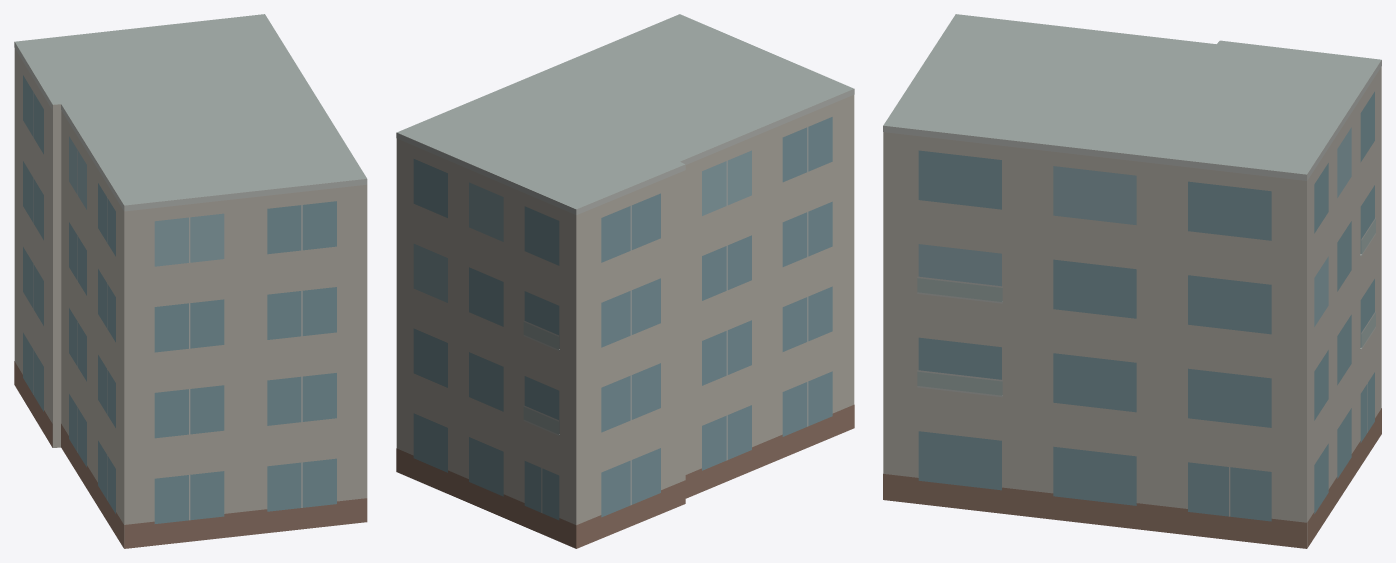
The model's file is survey-upis-32580500.glb.
The picture shows the model from 3 angles, left to right: view 1: azimuth 30°, elevation 25°; view 2: azimuth 150°, elevation 25°; view 3: azimuth 270°, elevation 25°; orthographic projection. The views are drawn at different scales.
Visible parts, largest first — view 1: survey-upis-32580500.tmp; view 2: survey-upis-32580500.tmp; view 3: survey-upis-32580500.tmp.
Boxes of the visible parts, <box> form: survey-upis-32580500.tmp: <box>14,14,367,548</box>; survey-upis-32580500.tmp: <box>396,14,854,548</box>; survey-upis-32580500.tmp: <box>883,14,1381,548</box>.
Size of the model in its own units: 13.08 by 14.2 by 17.16.
